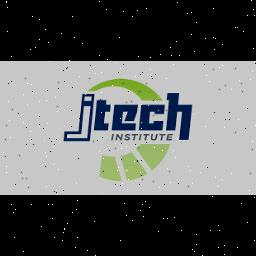h: (168, 90, 194, 146)
j: (64, 90, 96, 142)
